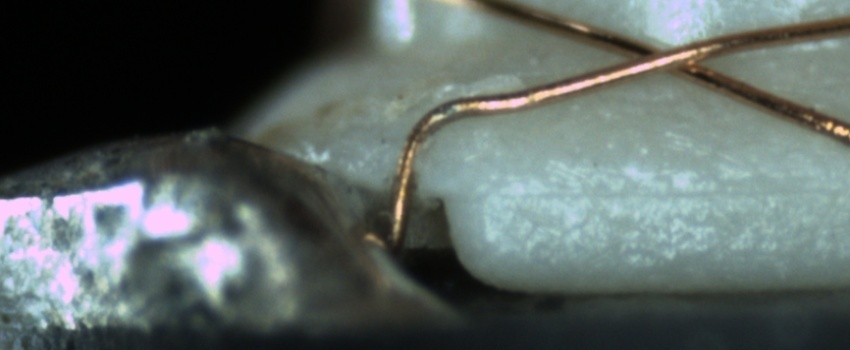CL: (605, 30, 726, 82)
DL: (463, 154, 849, 218)
